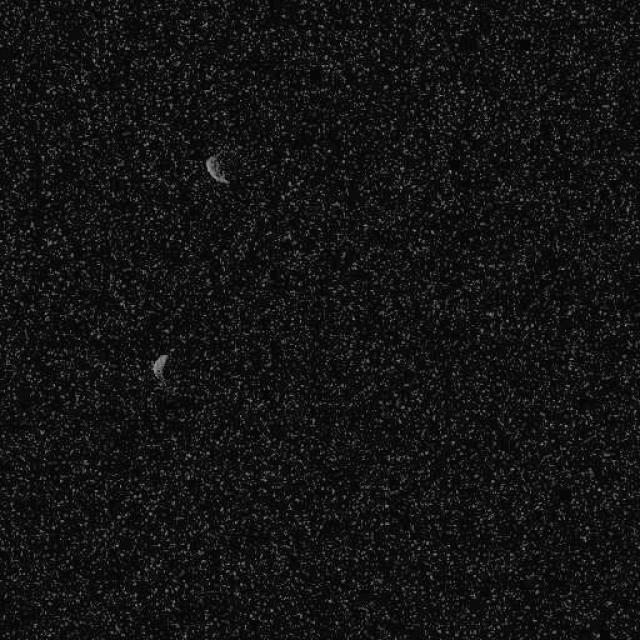D2: (204, 153, 230, 185), (150, 352, 169, 380)
